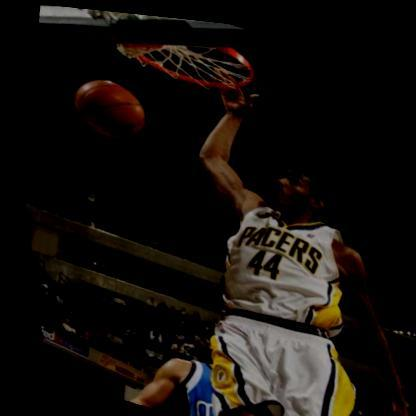basketball: (62, 67, 152, 148)
